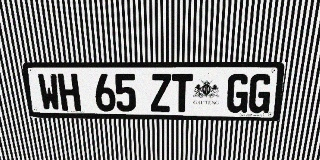5: (114, 74, 137, 112)
6: (93, 74, 116, 111)
G: (247, 74, 273, 113), (226, 74, 250, 113)
H: (57, 73, 81, 111)
T: (172, 74, 193, 112)
W: (37, 73, 61, 111)
Z: (150, 74, 171, 112)
